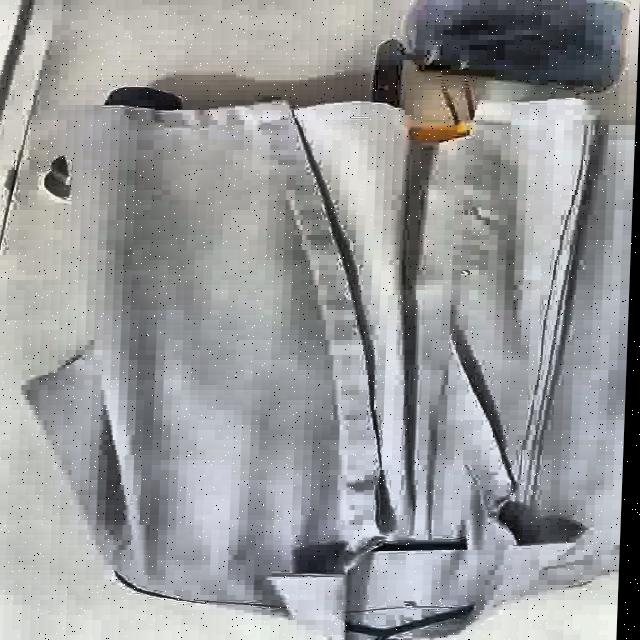clothes: (16, 87, 635, 640)
